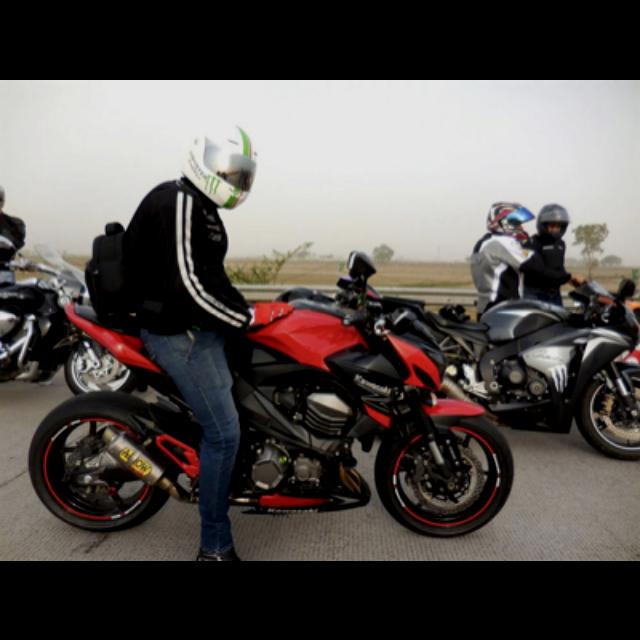With Helmet: (178, 121, 256, 209), (488, 198, 530, 236), (540, 199, 568, 237)
